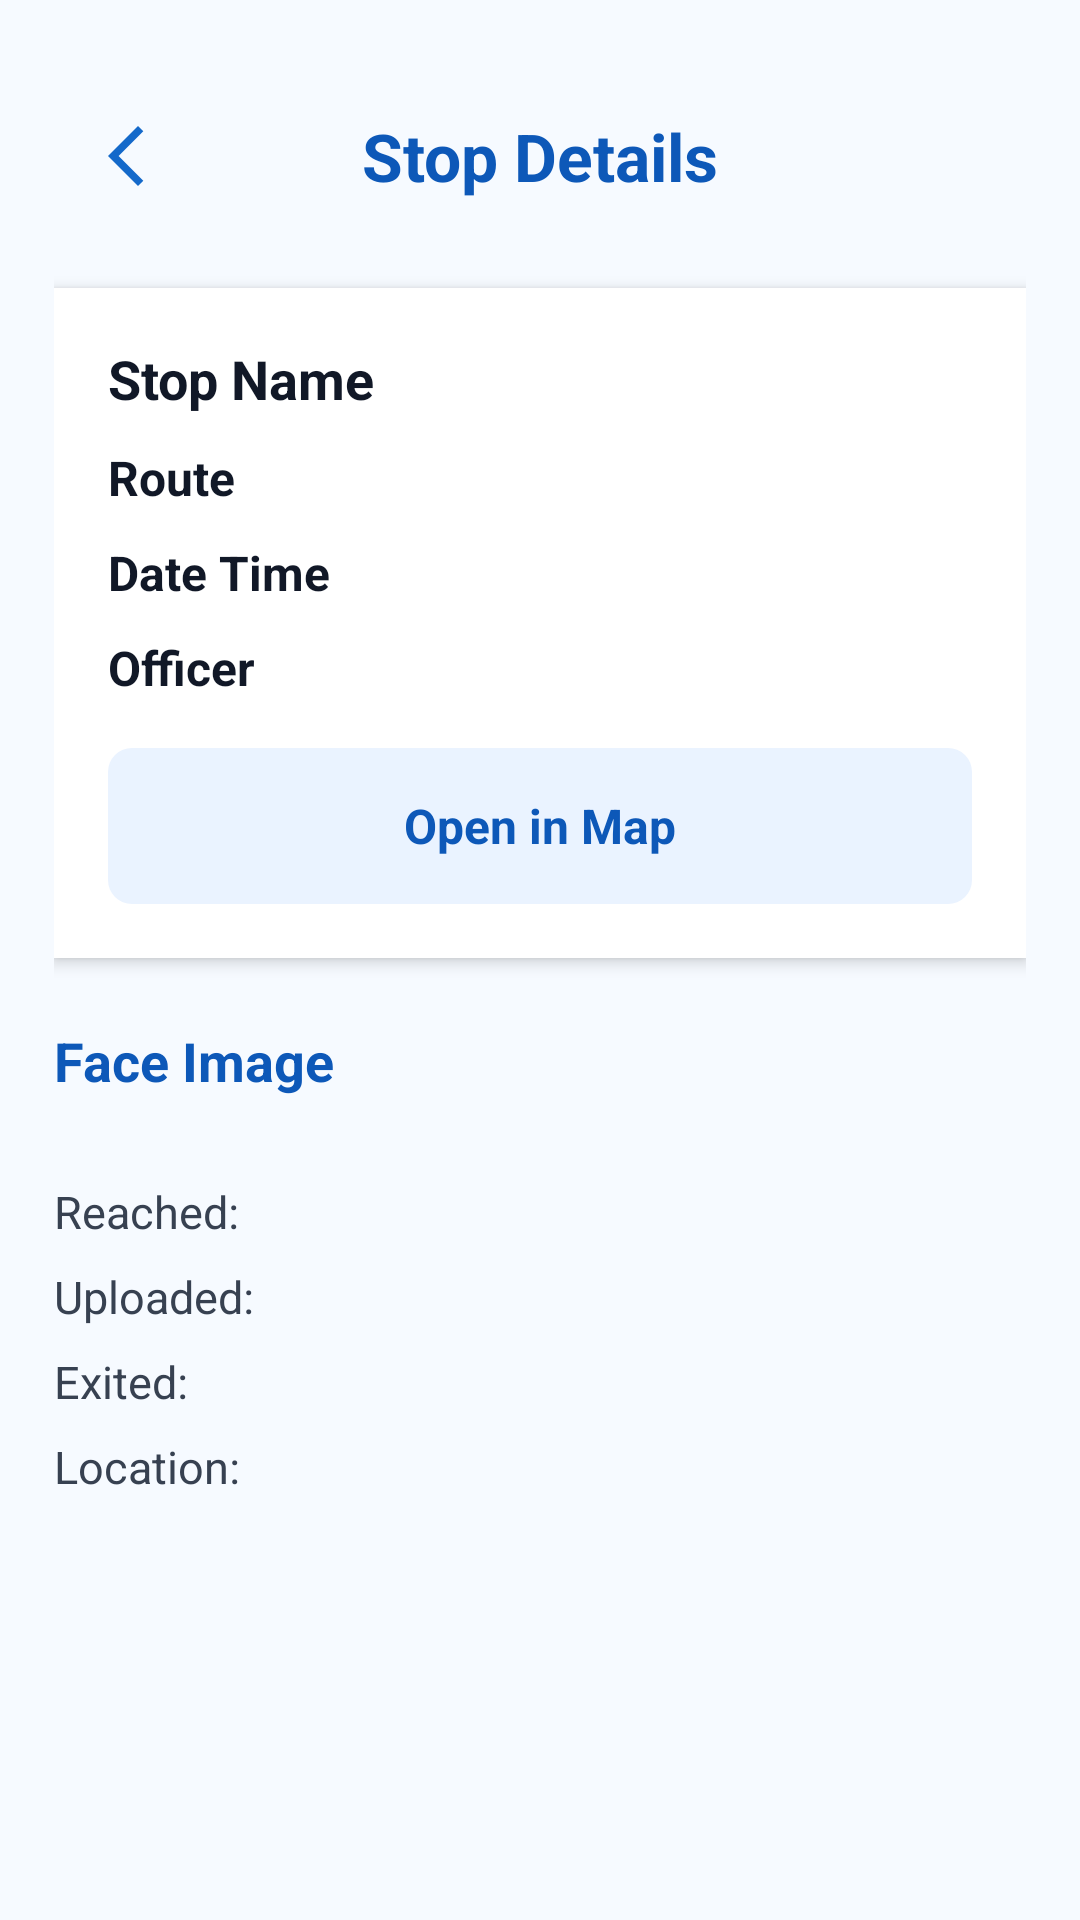

Where icons sit on this 1080x1920 app screen, as (x1, y1, x2, y2):
arrow back: (108, 126, 143, 186)
